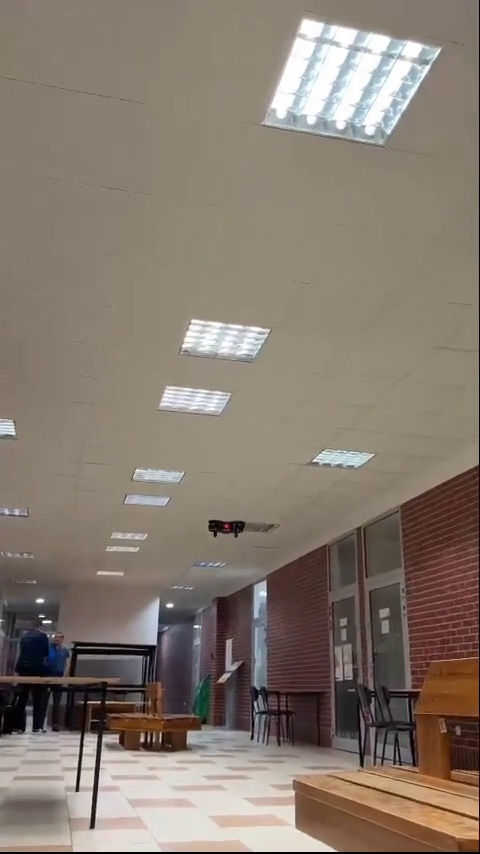drone: (204, 518, 246, 539)
no vest: (50, 626, 80, 743), (15, 623, 41, 745)
